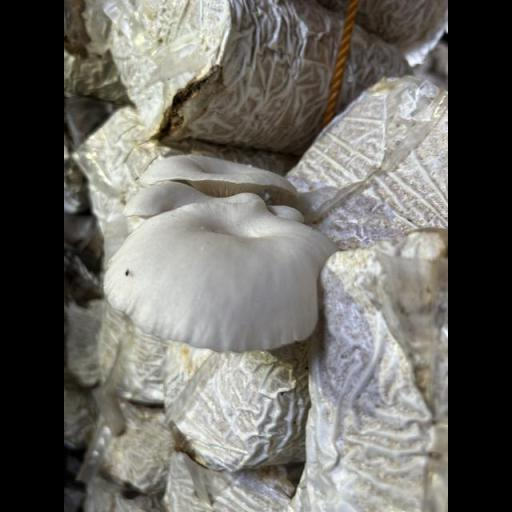White Oyster Mushroom: (105, 154, 341, 352)
